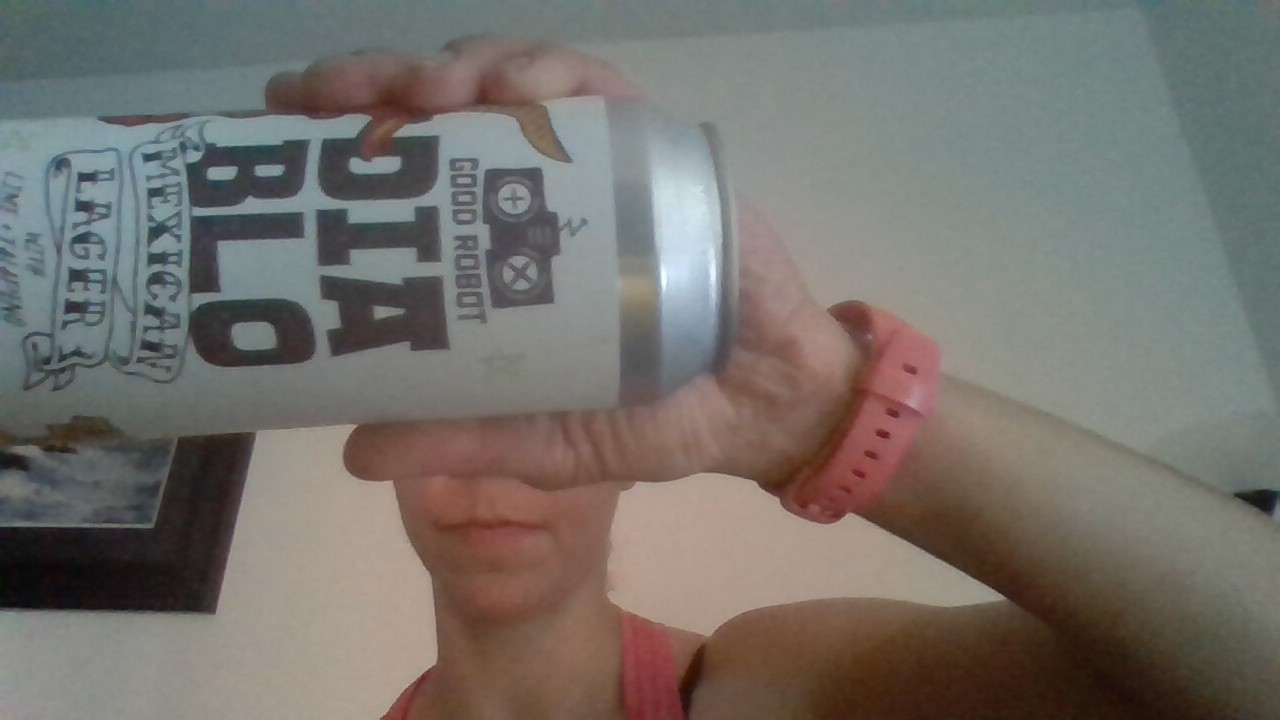Good Robot: (481, 163, 592, 323)
